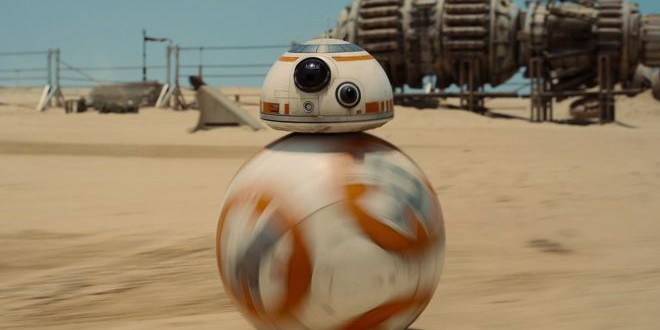bb8: (215, 37, 447, 330)
